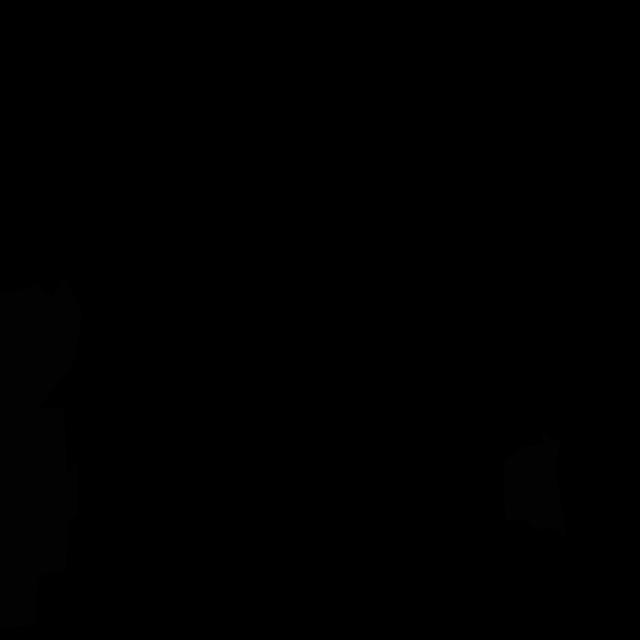cardboard: (0, 402, 78, 627), (0, 275, 82, 407), (503, 429, 567, 535)
